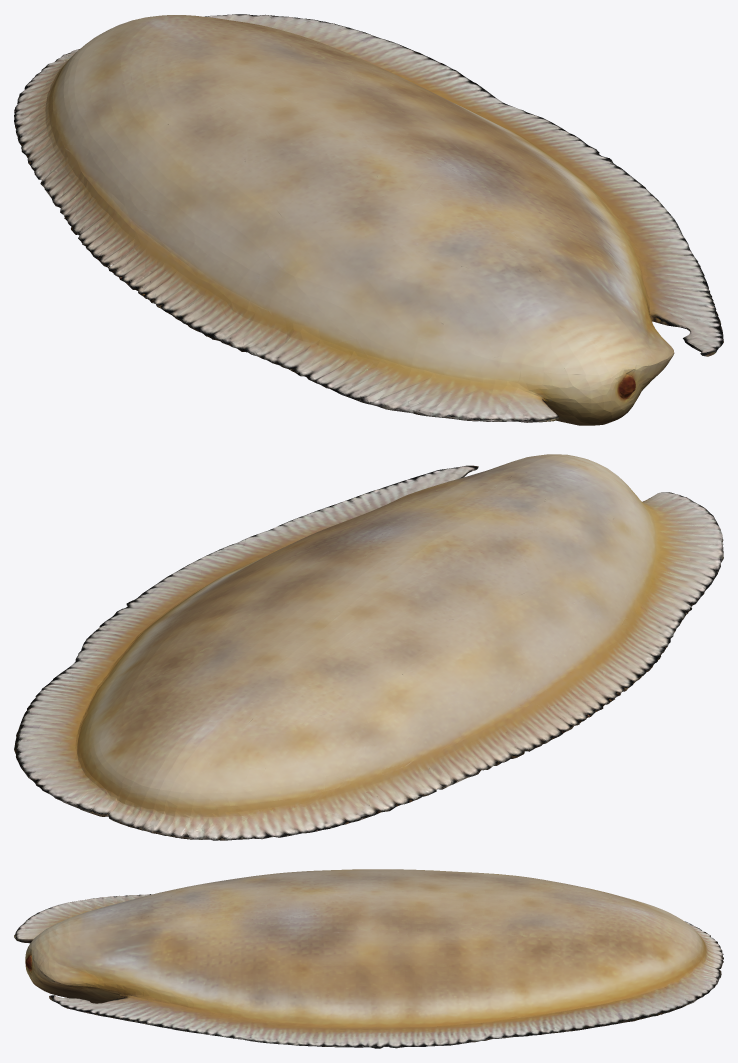
3 views of the same model, one above another, from view 1: azimuth 30°, elevation 25°; view 2: azimuth 150°, elevation 25°; view 3: azimuth 270°, elevation 25° (orthographic). The views are drawn at different scales.
Parts seen in each view (by area): view 1: world; view 2: world; view 3: world.
Boxes of the visible parts, x1=… form: world: x1=14, y1=14, x2=723, y2=425; world: x1=14, y1=454, x2=723, y2=840; world: x1=14, y1=869, x2=723, y2=1048.
Size of the model in its own units: 0.045 by 0.0131 by 0.08.
Materials: 1 (1 with a texture image).
